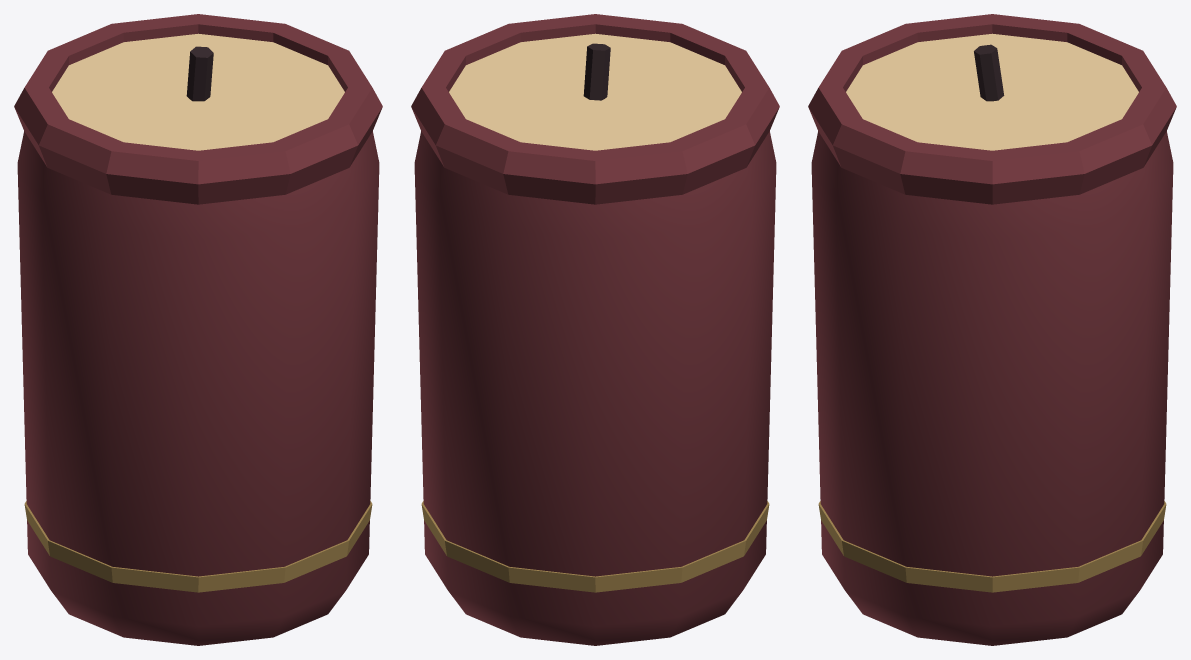
File: veladora.obj
3 views of the same model, side by side, from view 1: azimuth 30°, elevation 25°; view 2: azimuth 150°, elevation 25°; view 3: azimuth 270°, elevation 25° (orthographic).
Visible parts, largest first — view 1: veladora; view 2: veladora; view 3: veladora.
Part boxes in pixels (<box>): veladora: <box>14,14,382,645</box>; veladora: <box>411,14,779,645</box>; veladora: <box>808,14,1176,645</box>.
Size of the model in its own units: 0.106 by 0.1694 by 0.106.
